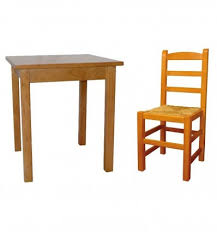tiyarina: (134, 47, 211, 183)
